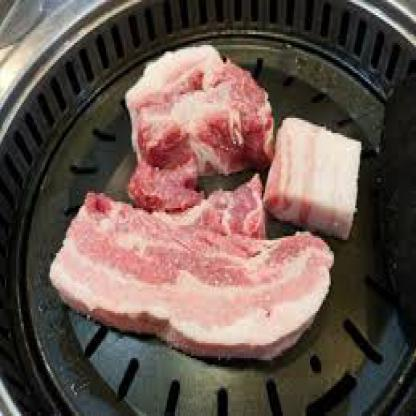pork: (64, 195, 320, 356), (125, 47, 273, 187), (278, 113, 376, 230)
